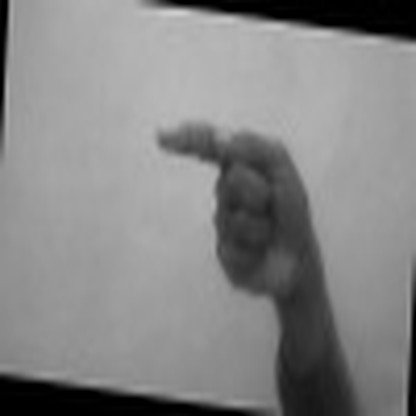g: (128, 108, 348, 296)
